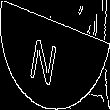N_N: (38, 25, 72, 85)
